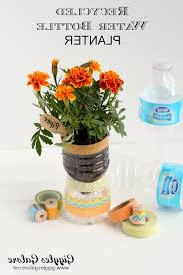plastic water bottle: (138, 56, 183, 157), (113, 156, 183, 207)
